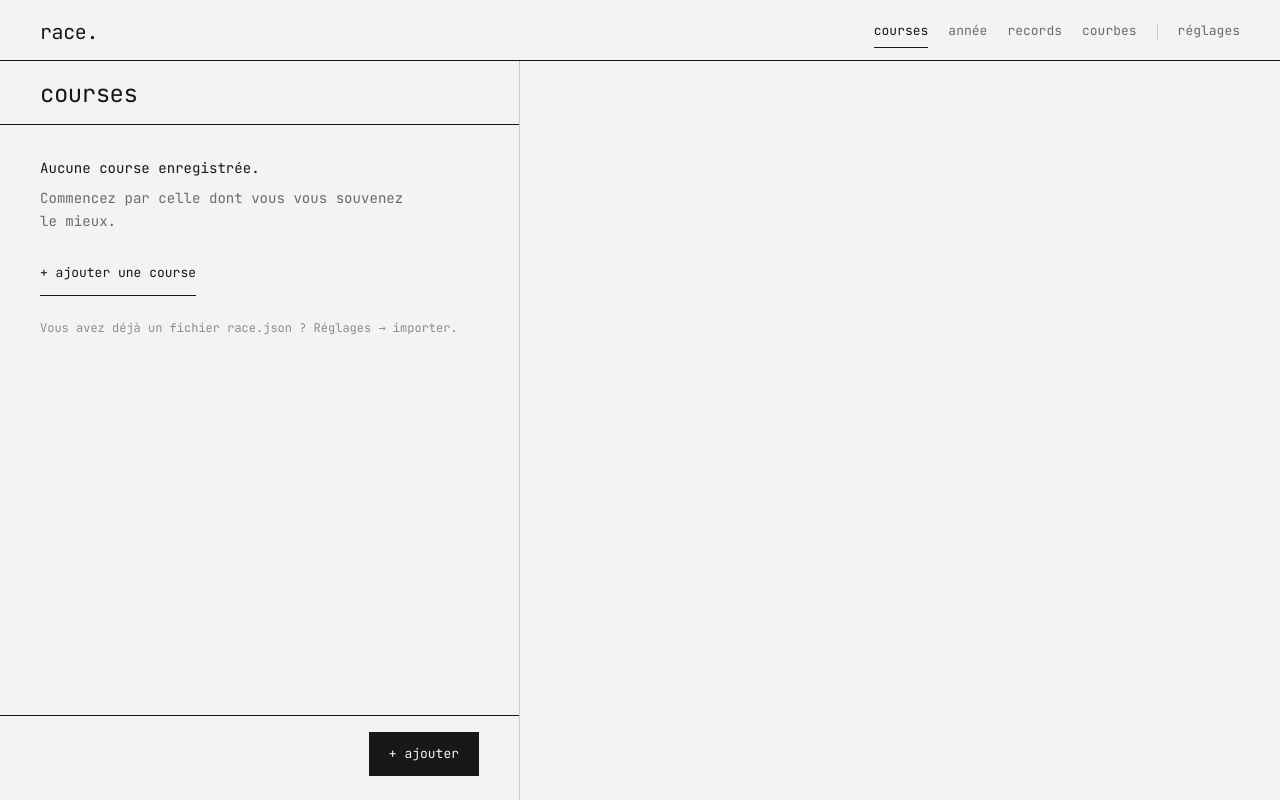
Test case: ajouter une course › refuse d’enregistrer un formulaire incomplet
Click the button "+ ajouter" at (424, 754), box [369, 732, 479, 776]
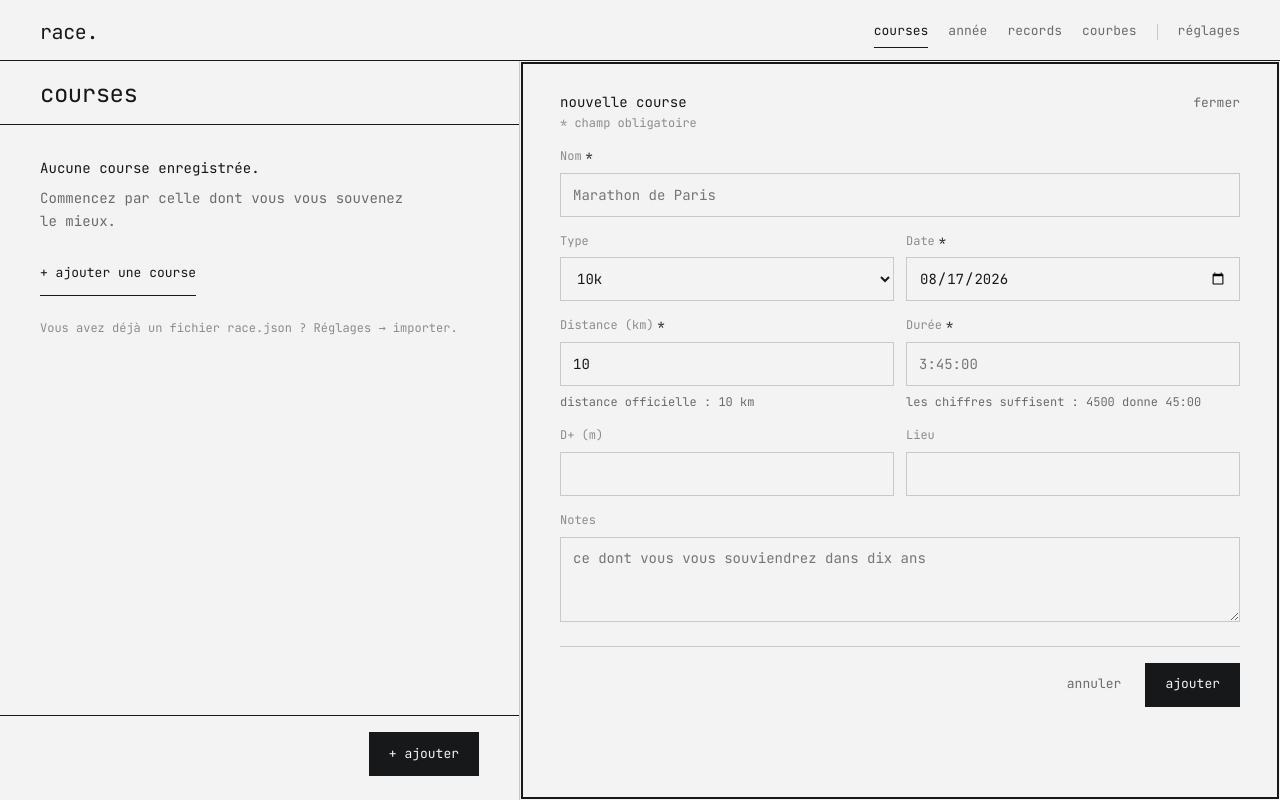
Click the button "ajouter" at (1193, 685), box [1145, 663, 1240, 707]
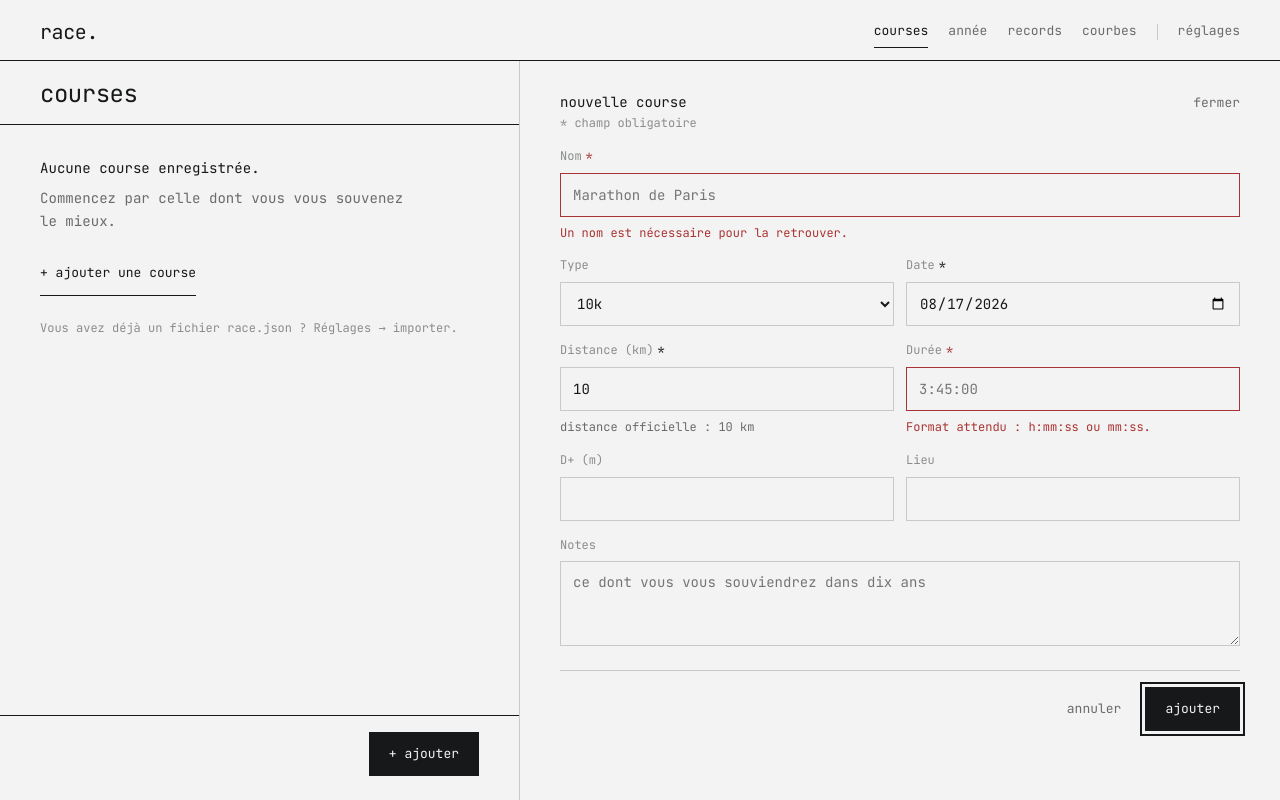
Check: the text "Un nom est nécessaire pour la retrouver." is shown, box [560, 225, 848, 241]
Check: the text "Format attendu : h:mm:ss ou mm:ss." is shown, box [906, 419, 1151, 435]
